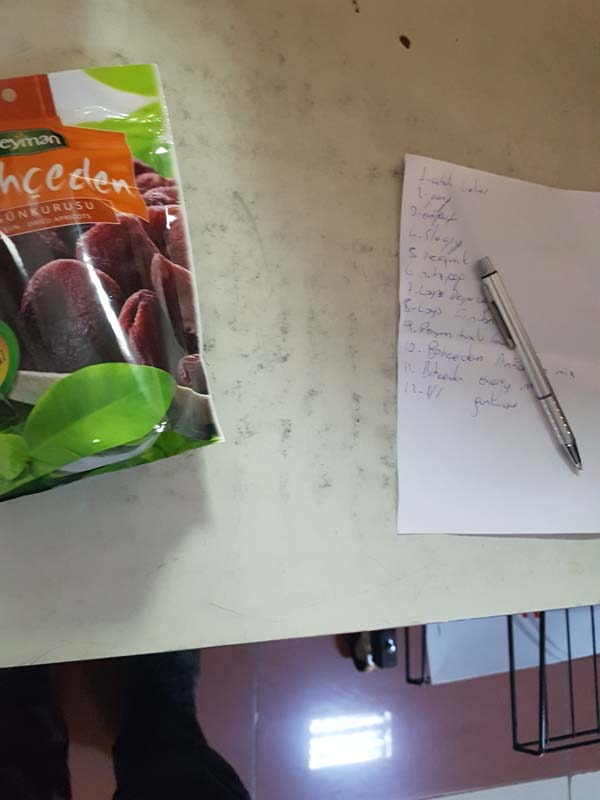bahcedengunkurusu: (1, 62, 210, 466)
